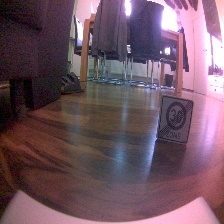dreisiger_zone_ende: (156, 93, 194, 146)
